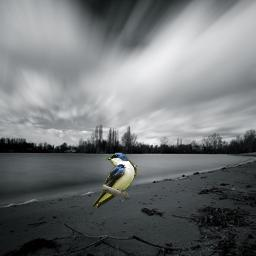Swallow: (91, 152, 137, 209)
